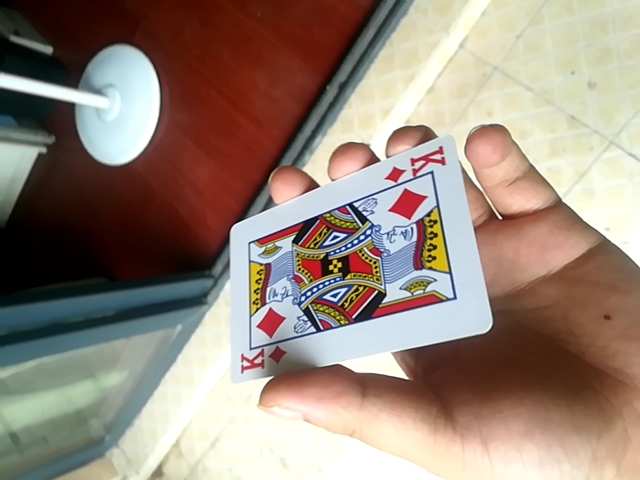fk k: (226, 136, 491, 389)
